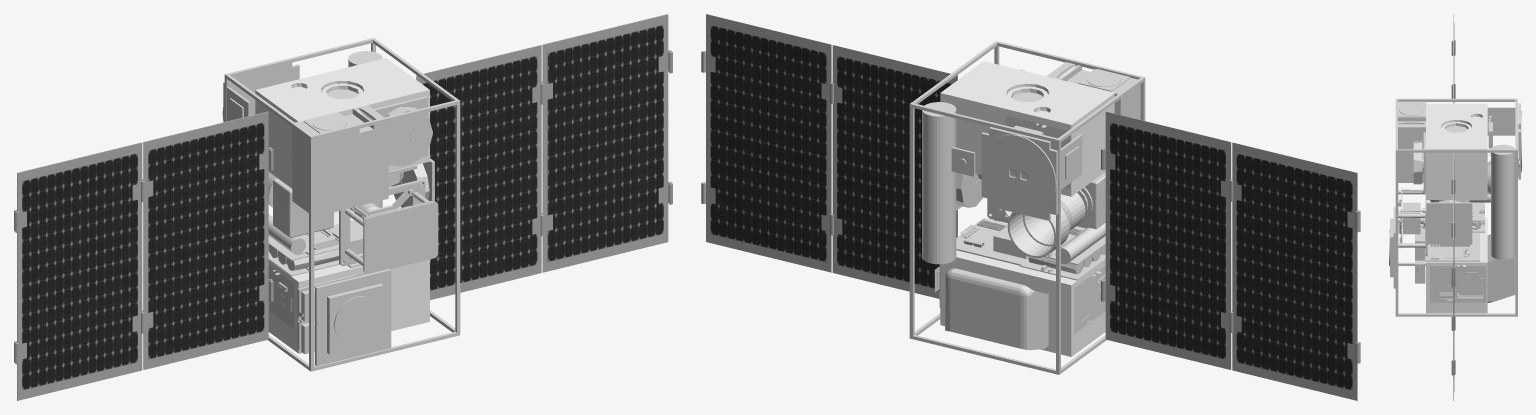
File: Untitledtest.glb
3 views of the same model, side by side, from view 1: azimuth 30°, elevation 25°; view 2: azimuth 150°, elevation 25°; view 3: azimuth 270°, elevation 25° (orthographic). The views are drawn at different scales.
Parts seen in each view (by area): view 1: Solar panel 1, Solar panel 2, ION_BEAM, ALTITUTE_SYSTEM, RADIO, FRAME, FOV, GYRO, PILASMA, BATTERY, STAR_TRACKER, GNSS (+1 smaller); view 2: Solar panel 2, Solar panel 1, ION_BEAM, PILASMA, FRAME, LIDAR, FUEL, STAR_TRACKER, ALTITUTE_SYSTEM, RADIO, BATTERY, GNSS (+3 smaller); view 3: ION_BEAM, FRAME, FUEL, GYRO, IMU, RADIO, ALTITUTE_SYSTEM, FOV, LIDAR, PILASMA, Solar panel 2, Solar panel 1 (+1 smaller).
Boxes of the visible parts, x1=… form: Solar panel 1: x1=15, y1=14, x2=672, y2=400; Solar panel 2: x1=14, y1=14, x2=671, y2=400; ION_BEAM: x1=255, y1=58, x2=429, y2=353; ALTITUTE_SYSTEM: x1=292, y1=105, x2=388, y2=216; RADIO: x1=297, y1=220, x2=391, y2=366; FRAME: x1=224, y1=38, x2=460, y2=371; FOV: x1=339, y1=179, x2=438, y2=274; GYRO: x1=373, y1=96, x2=434, y2=207; PILASMA: x1=222, y1=62, x2=299, y2=122; BATTERY: x1=268, y1=229, x2=342, y2=276; STAR_TRACKER: x1=268, y1=172, x2=333, y2=237; GNSS: x1=268, y1=265, x2=293, y2=329; Solar panel 2: x1=701, y1=25, x2=1359, y2=400; Solar panel 1: x1=703, y1=14, x2=1360, y2=400; ION_BEAM: x1=940, y1=61, x2=1114, y2=356; PILASMA: x1=981, y1=116, x2=1082, y2=220; FRAME: x1=909, y1=41, x2=1145, y2=374; LIDAR: x1=945, y1=268, x2=1048, y2=350; FUEL: x1=922, y1=102, x2=956, y2=264; STAR_TRACKER: x1=1007, y1=172, x2=1105, y2=258; ALTITUTE_SYSTEM: x1=1046, y1=62, x2=1140, y2=119; RADIO: x1=956, y1=218, x2=1087, y2=265; BATTERY: x1=1020, y1=226, x2=1105, y2=280; GNSS: x1=1074, y1=265, x2=1105, y2=333; ION_BEAM: x1=1426, y1=103, x2=1487, y2=313; FRAME: x1=1395, y1=98, x2=1517, y2=316; FUEL: x1=1491, y1=144, x2=1515, y2=259; GYRO: x1=1413, y1=132, x2=1472, y2=244; IMU: x1=1430, y1=265, x2=1485, y2=302; RADIO: x1=1389, y1=207, x2=1479, y2=288; ALTITUTE_SYSTEM: x1=1398, y1=101, x2=1426, y2=182; FOV: x1=1398, y1=187, x2=1427, y2=256; LIDAR: x1=1487, y1=234, x2=1515, y2=302; PILASMA: x1=1487, y1=103, x2=1521, y2=179; Solar panel 2: x1=1453, y1=14, x2=1455, y2=400; Solar panel 1: x1=1451, y1=14, x2=1453, y2=400.
Size of the model in its own units: 17.61 by 6 by 4.34.
7 materials, 1 textured.
